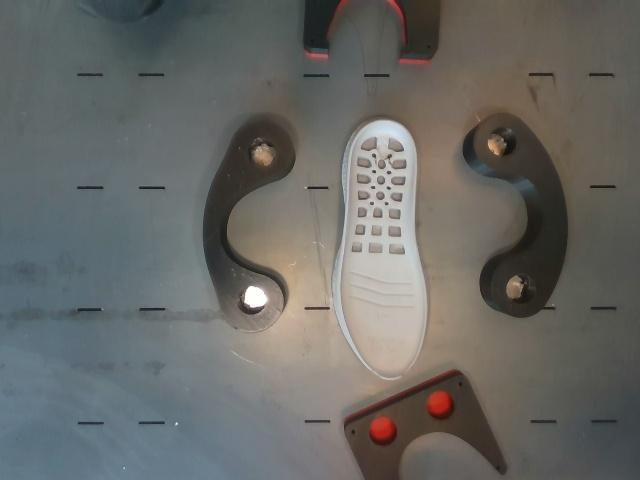shoes: (339, 121, 426, 381)
